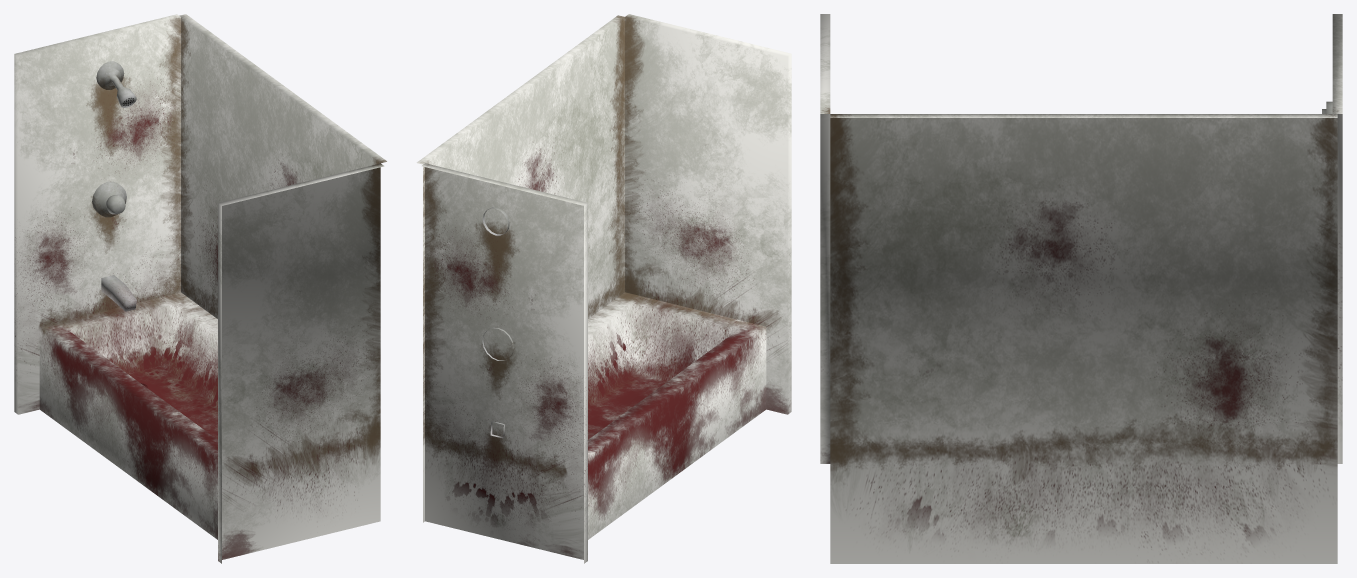
Rendered from shower.fbx.
3 views of the same model, side by side, from view 1: azimuth 30°, elevation 25°; view 2: azimuth 150°, elevation 25°; view 3: azimuth 270°, elevation 25° (orthographic). The views are drawn at different scales.
Visible parts, largest first — view 1: g.002, g.004, g, g.003, g.008, g.005, g.007; view 2: g.004, g.002, g, g.003; view 3: g.003, g.002, g.004.
Part boxes in pixels (x1,y1,x2,y2): g.002: [218, 163, 384, 563]; g.004: [14, 14, 180, 414]; g: [39, 292, 217, 539]; g.003: [179, 14, 386, 318]; g.008: [96, 61, 136, 107]; g.005: [101, 275, 136, 311]; g.007: [92, 181, 126, 217]; g.004: [421, 163, 587, 563]; g.002: [625, 14, 791, 414]; g: [588, 292, 766, 539]; g.003: [416, 15, 624, 522]; g.003: [830, 114, 1337, 563]; g.002: [820, 14, 830, 463]; g.004: [1332, 14, 1342, 463].
Bounding box in the file's own units: 94.32 × 190 × 200.
1 material, 1 textured.
